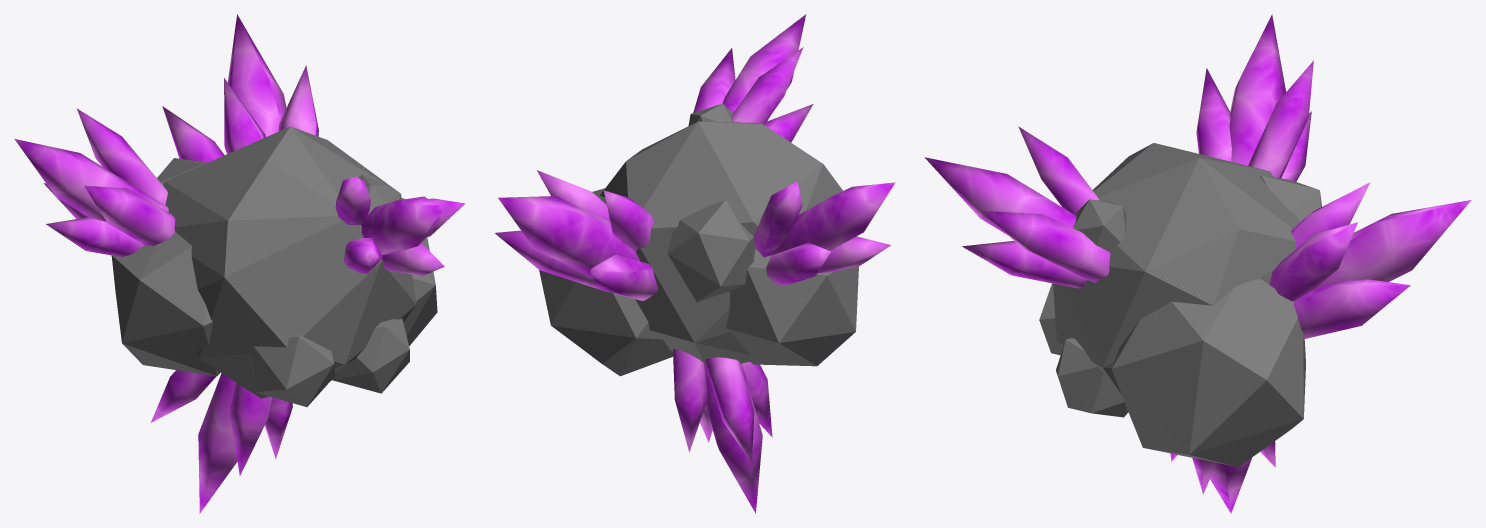
File: magicstoneSemioreLP.fbx
The picture shows the model from 3 angles, left to right: view 1: azimuth 30°, elevation 25°; view 2: azimuth 150°, elevation 25°; view 3: azimuth 270°, elevation 25°; orthographic projection. The views are drawn at different scales.
Parts seen in each view (by area): view 1: StoneOre.008, MagicstoneParticle.064; view 2: StoneOre.008, MagicstoneParticle.064; view 3: StoneOre.008, MagicstoneParticle.064.
Boxes of the visible parts, x1=… form: StoneOre.008: x1=111, y1=126, x2=437, y2=407; MagicstoneParticle.064: x1=14, y1=14, x2=465, y2=513; StoneOre.008: x1=539, y1=103, x2=858, y2=376; MagicstoneParticle.064: x1=495, y1=14, x2=895, y2=513; StoneOre.008: x1=1039, y1=143, x2=1321, y2=466; MagicstoneParticle.064: x1=924, y1=14, x2=1471, y2=513.
Bounding box in the file's own units: 340 × 340 × 405.
